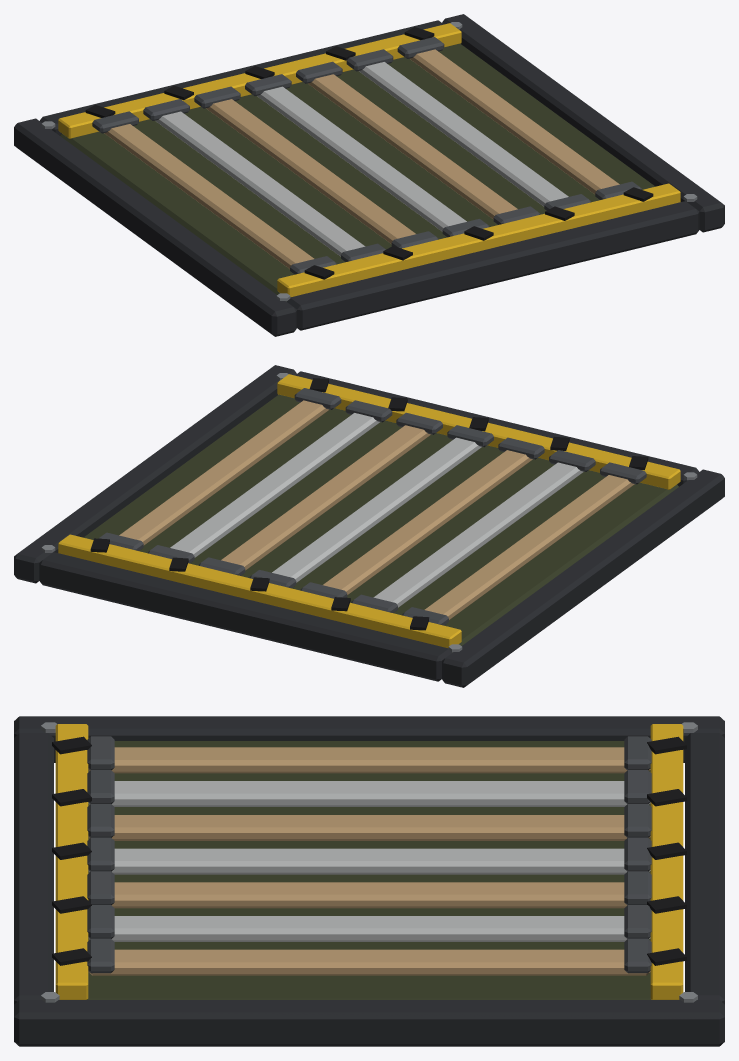
The model's file is piece_shock_trap.fbx.
3 views of the same model, one above another, from view 1: azimuth 30°, elevation 25°; view 2: azimuth 150°, elevation 25°; view 3: azimuth 270°, elevation 25° (orthographic). The views are drawn at different scales.
Visible parts, largest first — view 1: piece_shock_trap; view 2: piece_shock_trap; view 3: piece_shock_trap.
Boxes of the visible parts, x1=… form: piece_shock_trap: x1=14, y1=14, x2=724, y2=336; piece_shock_trap: x1=14, y1=365, x2=724, y2=687; piece_shock_trap: x1=14, y1=716, x2=724, y2=1046.
Size of the model in its own units: 1.96 by 0.15 by 1.96.
